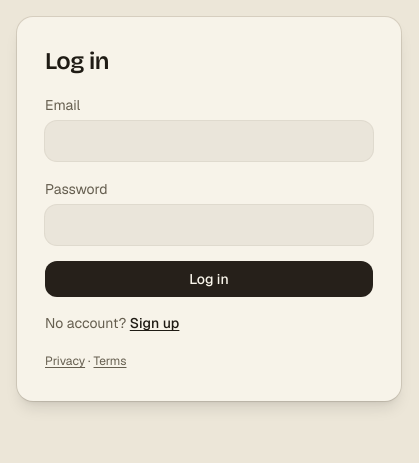
Scenario: LoginForm › shows an inline error for bad credentials
In the field labelled "Email": (209, 141) [45, 121, 373, 161], type "ann@example.com"
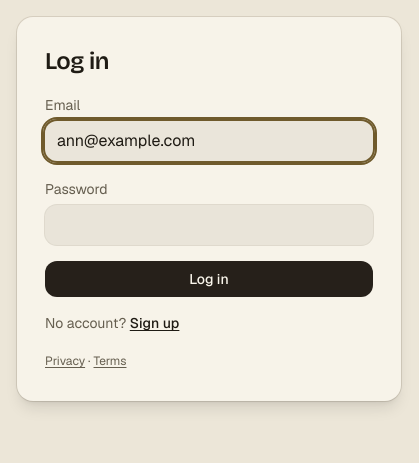
In the password field labelled "Password": (209, 225) [45, 205, 373, 245], type "correct-horse"
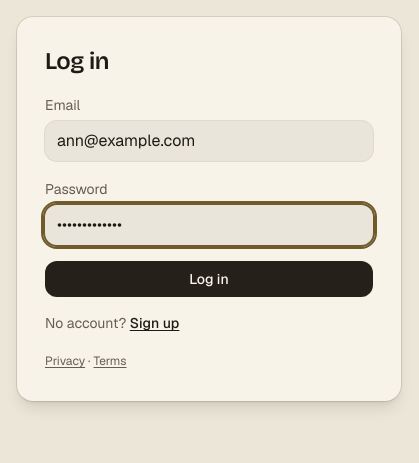
Click the button "Log in": click(209, 279) [45, 261, 373, 297]
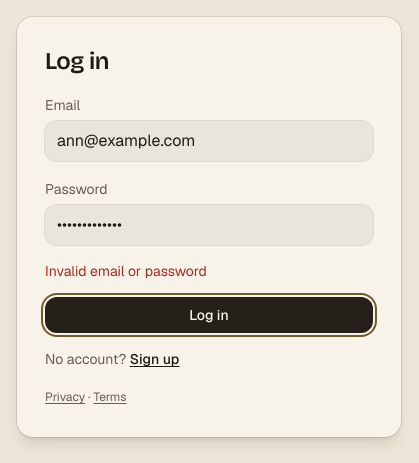
Check: the message reads "Invalid email or password", box [45, 262, 207, 280]
